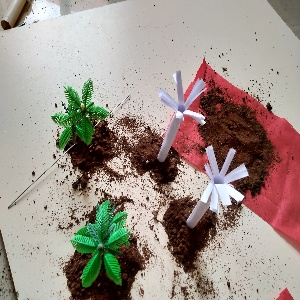plant: (65, 191, 138, 292), (46, 66, 106, 160)
weed: (187, 143, 249, 234), (143, 67, 194, 158)
